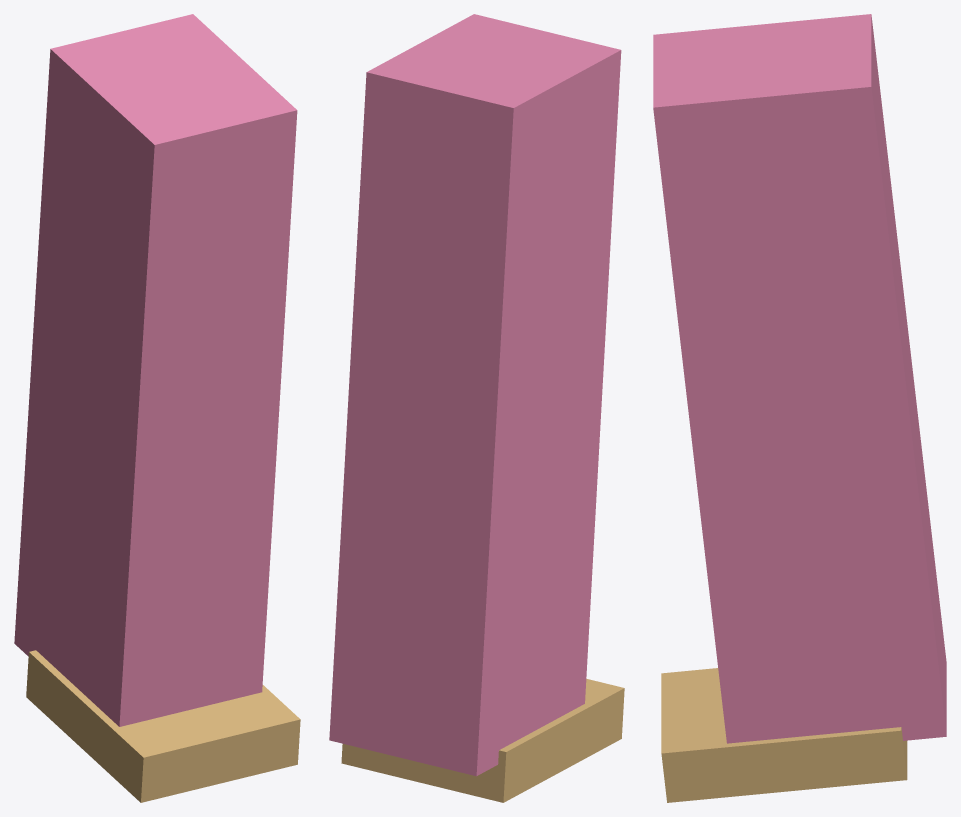
Rendered from ExtendedMag.obj.
The picture shows the model from 3 angles, left to right: view 1: azimuth 30°, elevation 25°; view 2: azimuth 150°, elevation 25°; view 3: azimuth 270°, elevation 25°; orthographic projection. The views are drawn at different scales.
Visible parts, largest first — view 1: ExtendedMag_Body, ExtendedMag_Detail; view 2: ExtendedMag_Body, ExtendedMag_Detail; view 3: ExtendedMag_Body, ExtendedMag_Detail.
Boxes of the visible parts, <box> form: ExtendedMag_Body: <box>14,14,297,726</box>; ExtendedMag_Detail: <box>26,650,300,802</box>; ExtendedMag_Body: <box>329,14,621,776</box>; ExtendedMag_Detail: <box>341,678,624,802</box>; ExtendedMag_Body: <box>653,14,946,743</box>; ExtendedMag_Detail: <box>661,668,907,802</box>.
Bounding box in the file's own units: 0.121 × 0.5015 × 0.1873.
